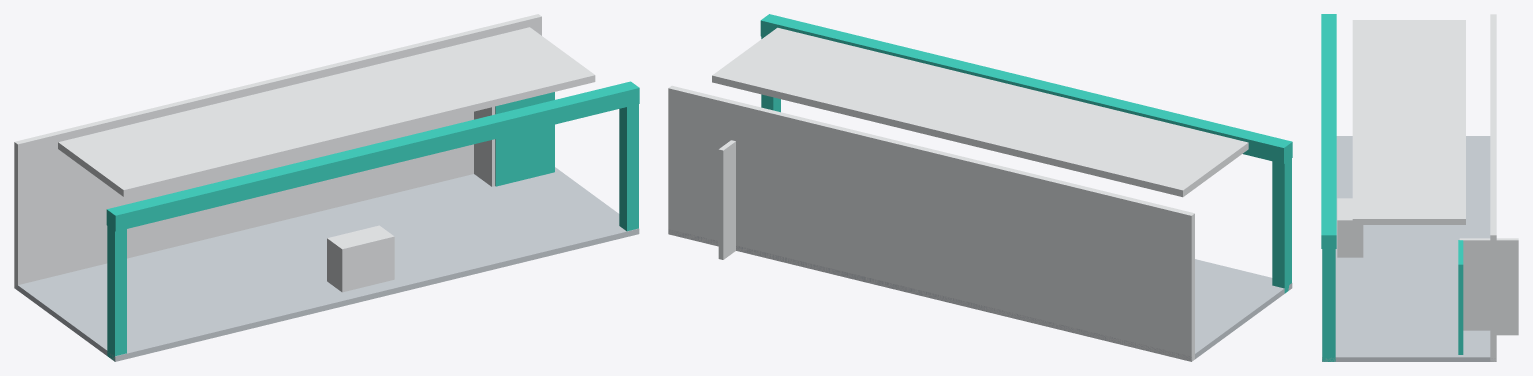
3 views of the same model, side by side, from view 1: azimuth 30°, elevation 25°; view 2: azimuth 150°, elevation 25°; view 3: azimuth 270°, elevation 25° (orthographic). The views are drawn at different scales.
Parts seen in each view (by area): view 1: Exhibition Booth Concept; view 2: Exhibition Booth Concept; view 3: Exhibition Booth Concept.
Part boxes in pixels (bbox=[...]): Exhibition Booth Concept: bbox=[14, 14, 639, 361]; Exhibition Booth Concept: bbox=[668, 14, 1292, 361]; Exhibition Booth Concept: bbox=[1321, 14, 1518, 361].
Bounding box in the file's own units: 12 × 3.34 × 4.52.
